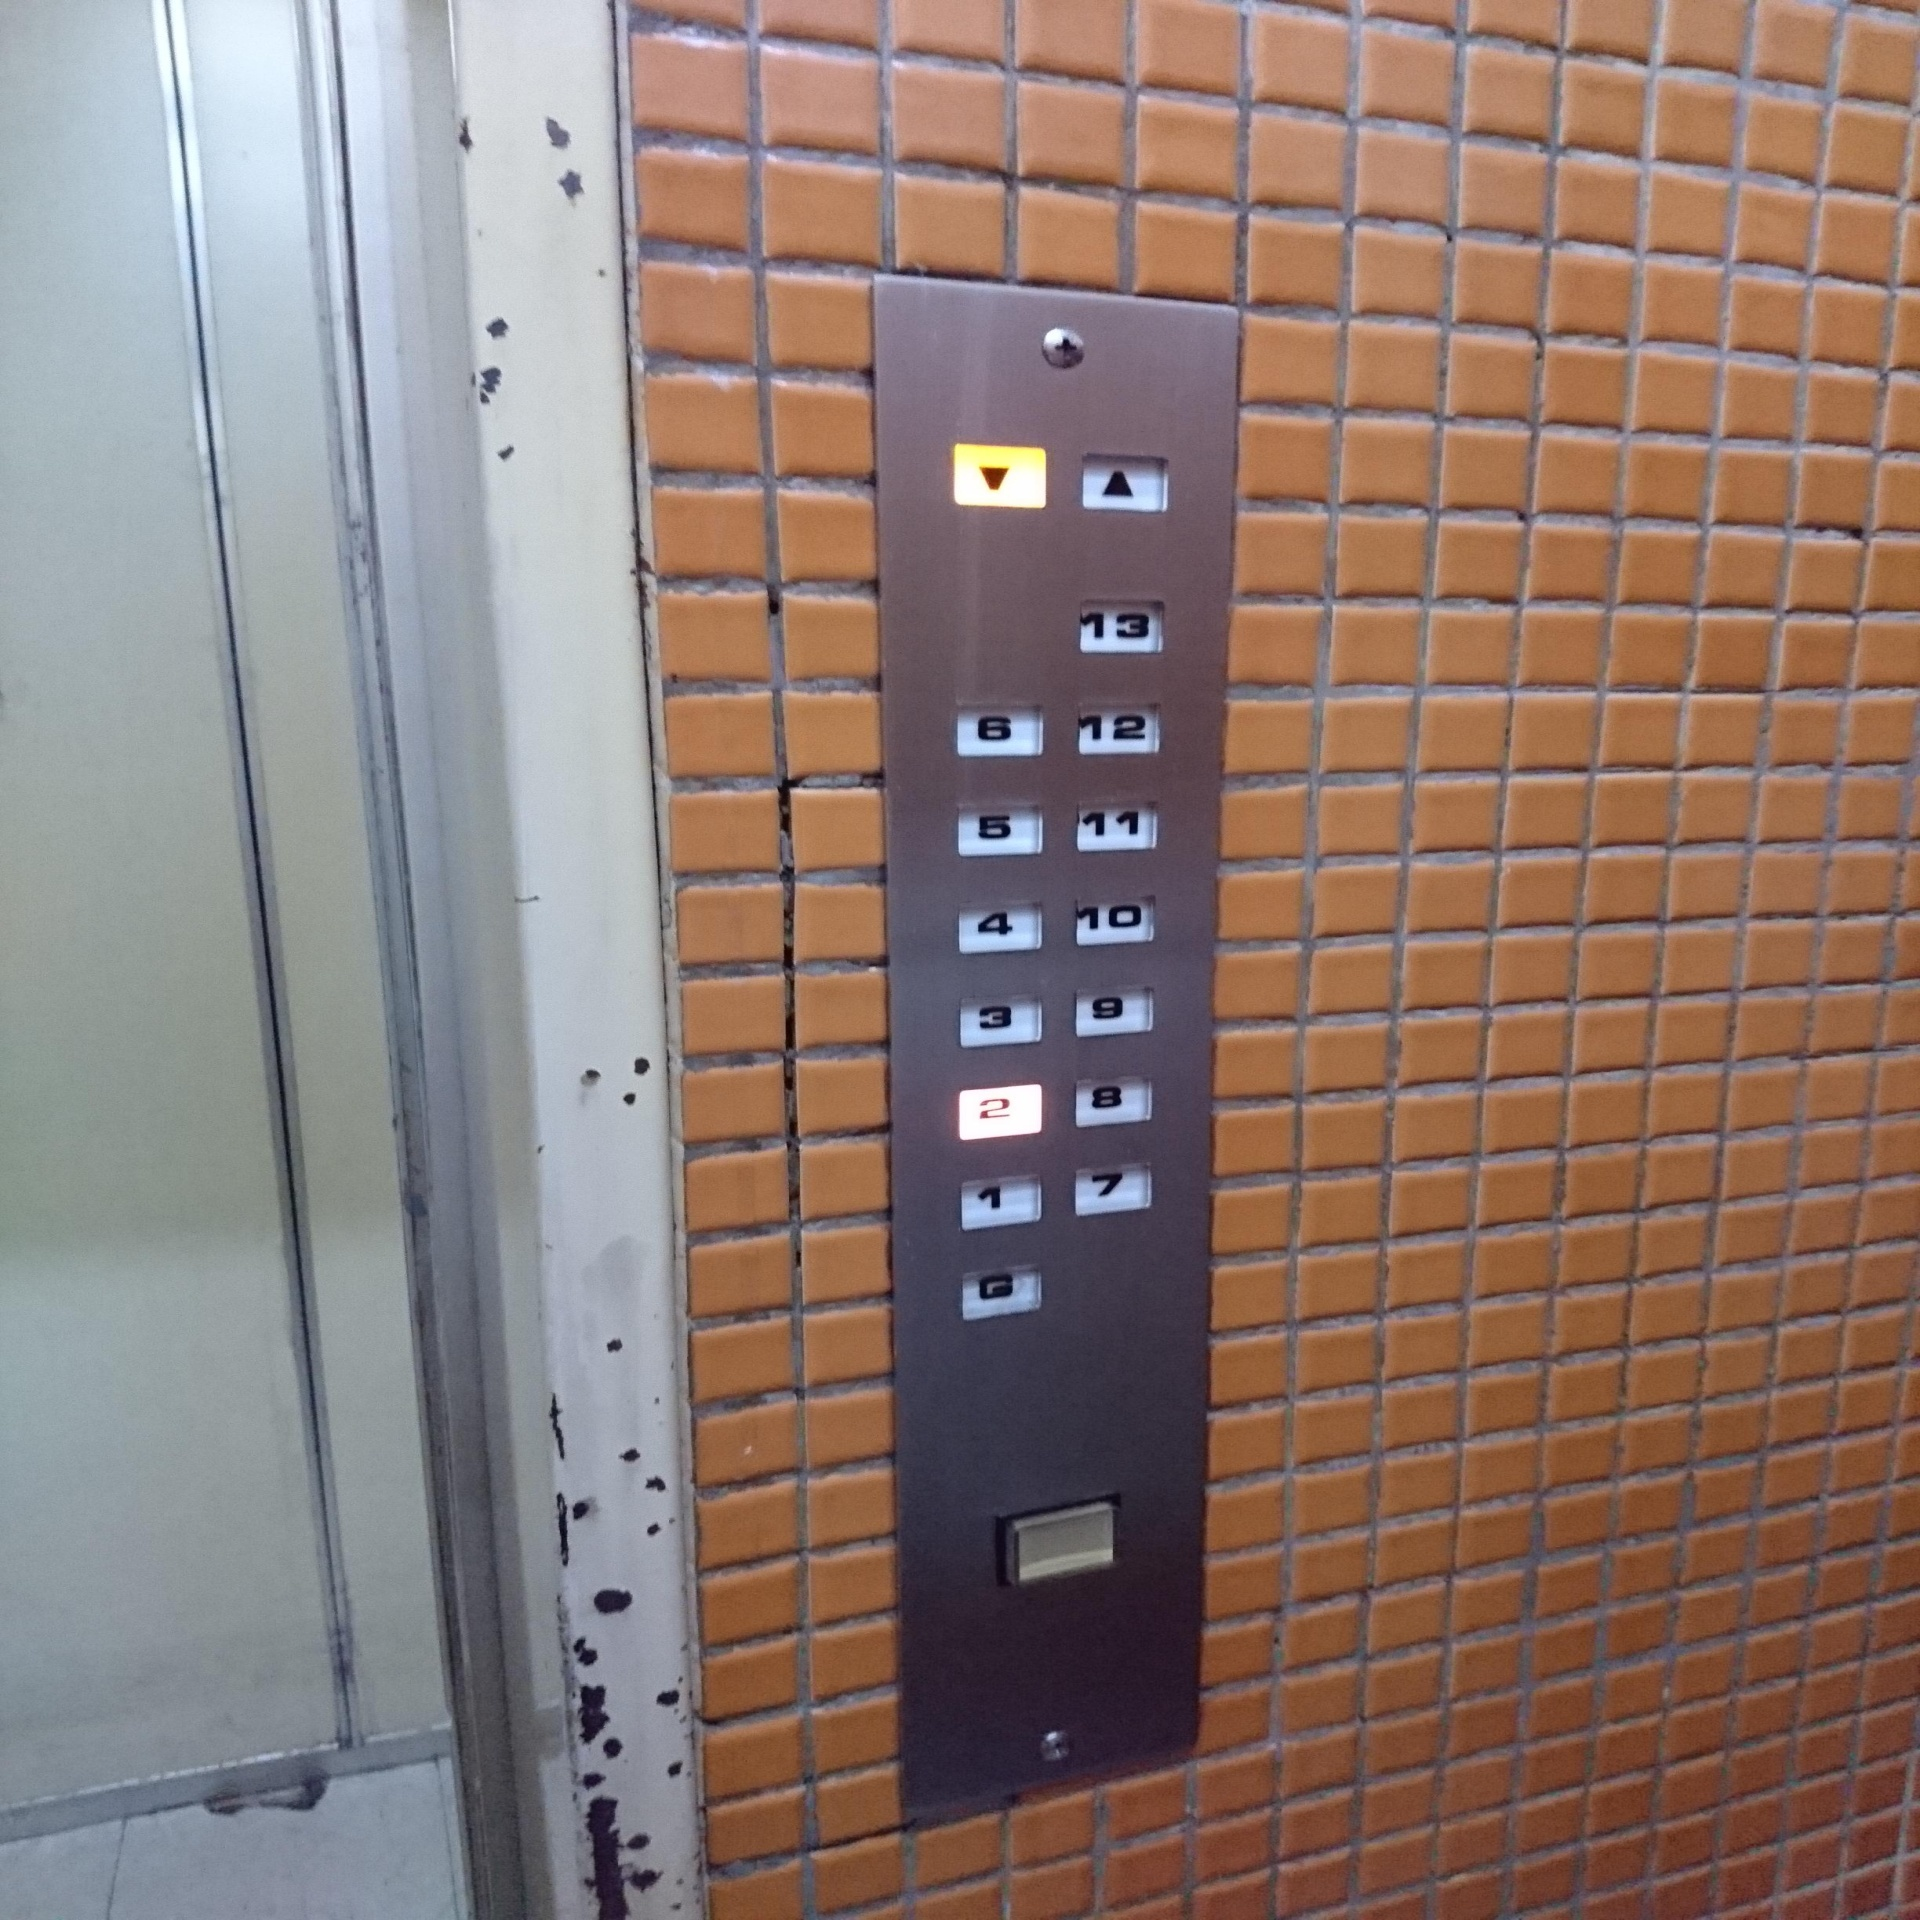1: (956, 1169, 1044, 1233)
10: (1073, 890, 1159, 949)
11: (1073, 798, 1160, 855)
12: (1074, 700, 1164, 756)
13: (1074, 594, 1169, 654)
2: (956, 1080, 1048, 1145)
3: (955, 990, 1044, 1048)
4: (955, 897, 1046, 956)
5: (953, 798, 1046, 860)
6: (951, 696, 1048, 761)
7: (1071, 1159, 1155, 1218)
8: (1069, 1071, 1155, 1131)
9: (1071, 983, 1159, 1041)
G: (958, 1259, 1046, 1326)
down: (951, 441, 1050, 508)
empty: (992, 1491, 1122, 1588)
up: (1081, 452, 1169, 512)
